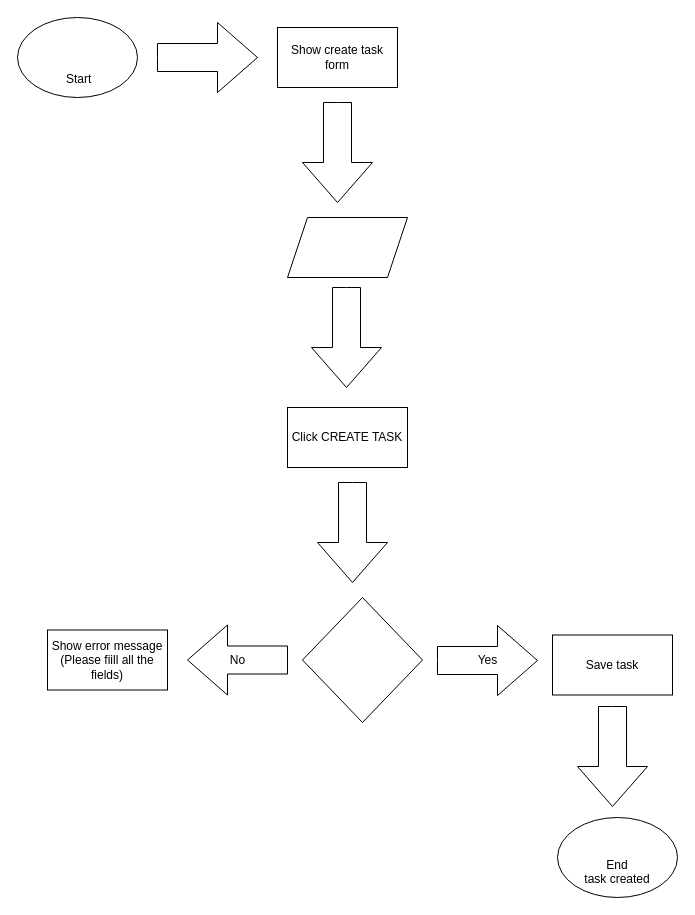
Image size: 695x915. Some labels were removed from this diagram. Each missing label, with the centre of its shape:
All fields valid?: point 362,659
Enter Title,Category,Due Date,Priority: point 347,247
